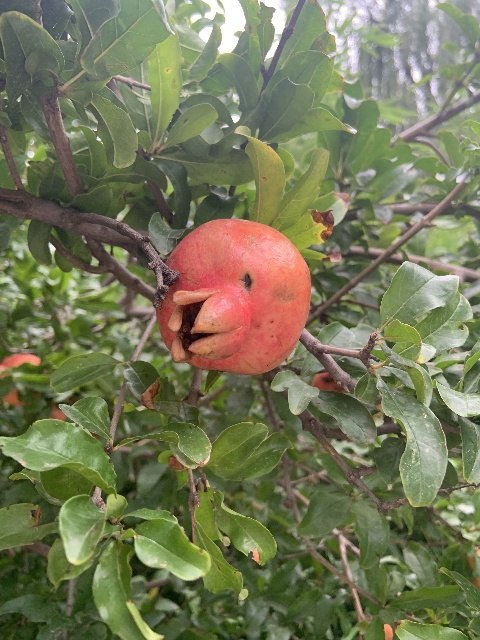ripe: (157, 219, 310, 374)
